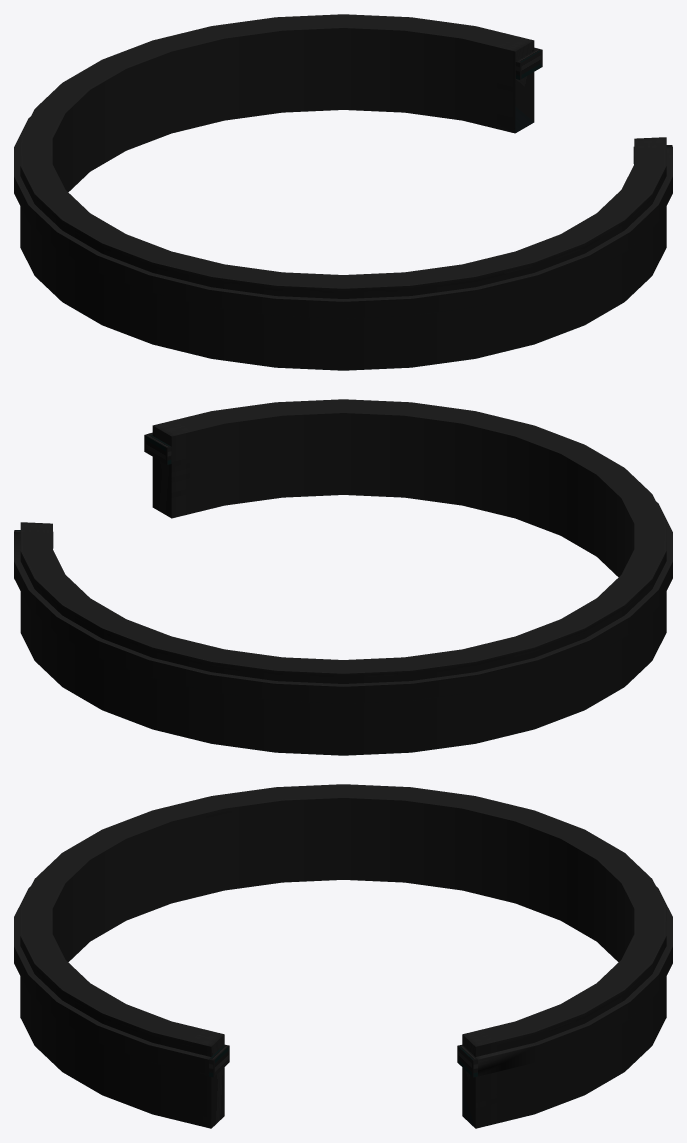
The model's file is Desk.obj.
3 renders of one model, top to bottom at view 1: azimuth 30°, elevation 25°; view 2: azimuth 150°, elevation 25°; view 3: azimuth 270°, elevation 25°, orthographic.
Parts seen in each view (by area): view 1: Spawn_Bar1; view 2: Spawn_Bar1; view 3: Spawn_Bar1.
Boxes of the visible parts, box(x1,y1,x2,y2) form: Spawn_Bar1: box(14, 14, 672, 370); Spawn_Bar1: box(14, 399, 672, 755); Spawn_Bar1: box(14, 784, 672, 1128).
Bounding box in the file's own units: 48.98 × 6.96 × 50.72.
Materials: 1 (1 with a texture image).
